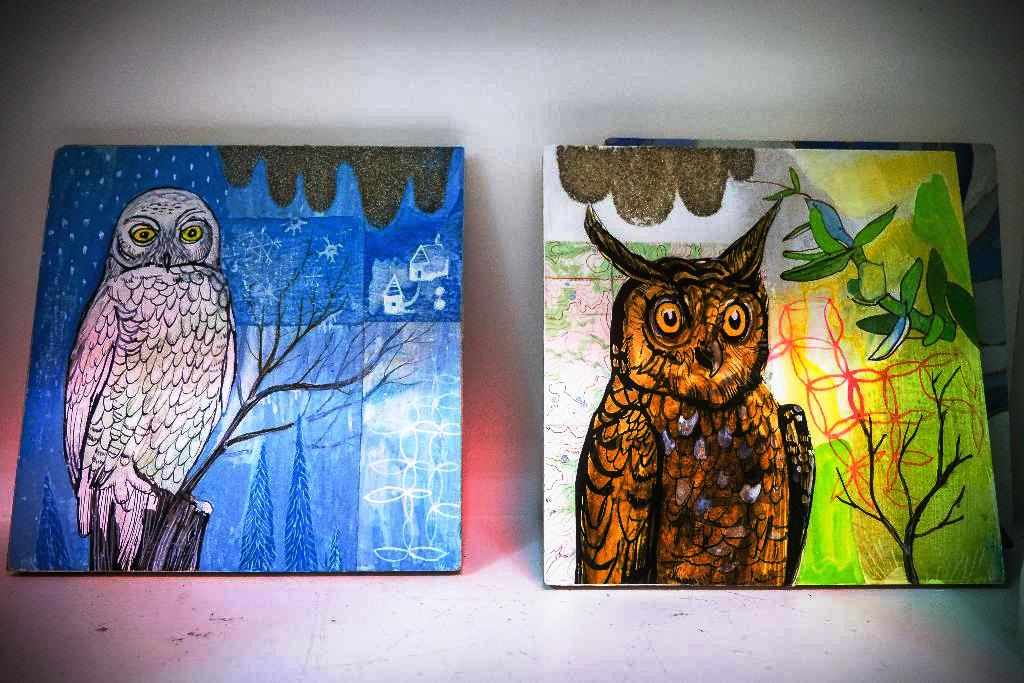Owl: (572, 194, 819, 585), (62, 184, 232, 530)
